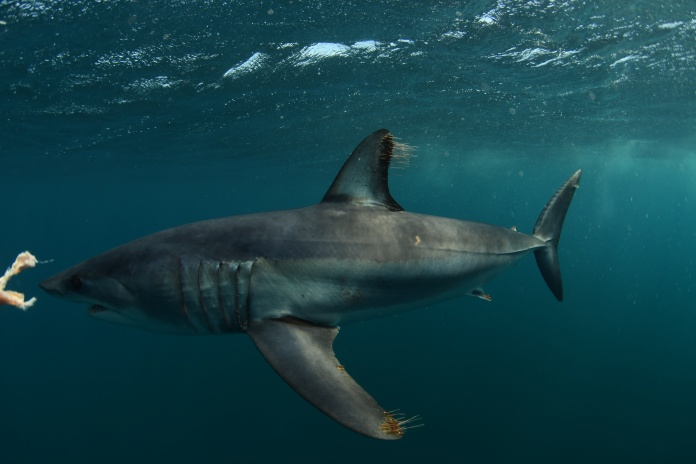Mako: (31, 124, 603, 449)
